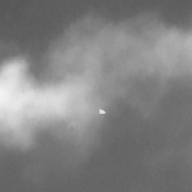Target: (98, 109, 106, 114)
